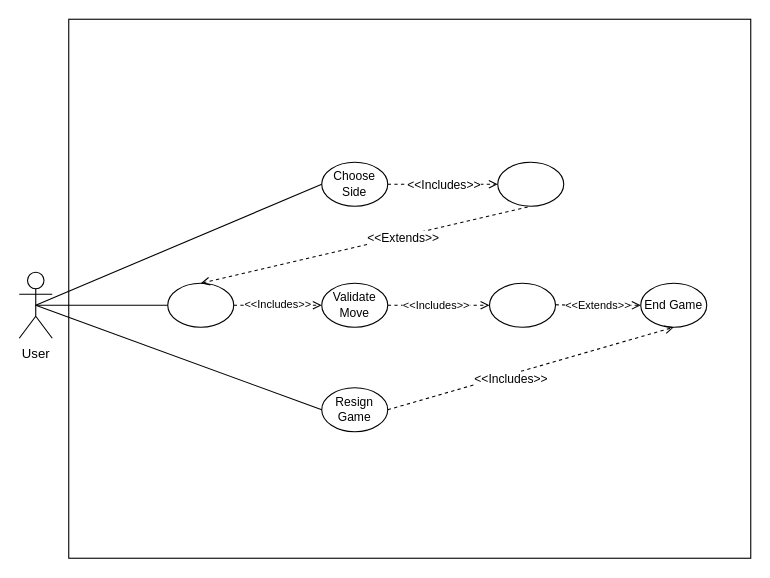
Some shapes in this 770 by 578 pixel diagram are drawn without their labels. Each missing label, with the centre of its shape:
Check Game Condition: pixel 522 304
Place A Piece: pixel 200 304
Start Game: pixel 530 183
